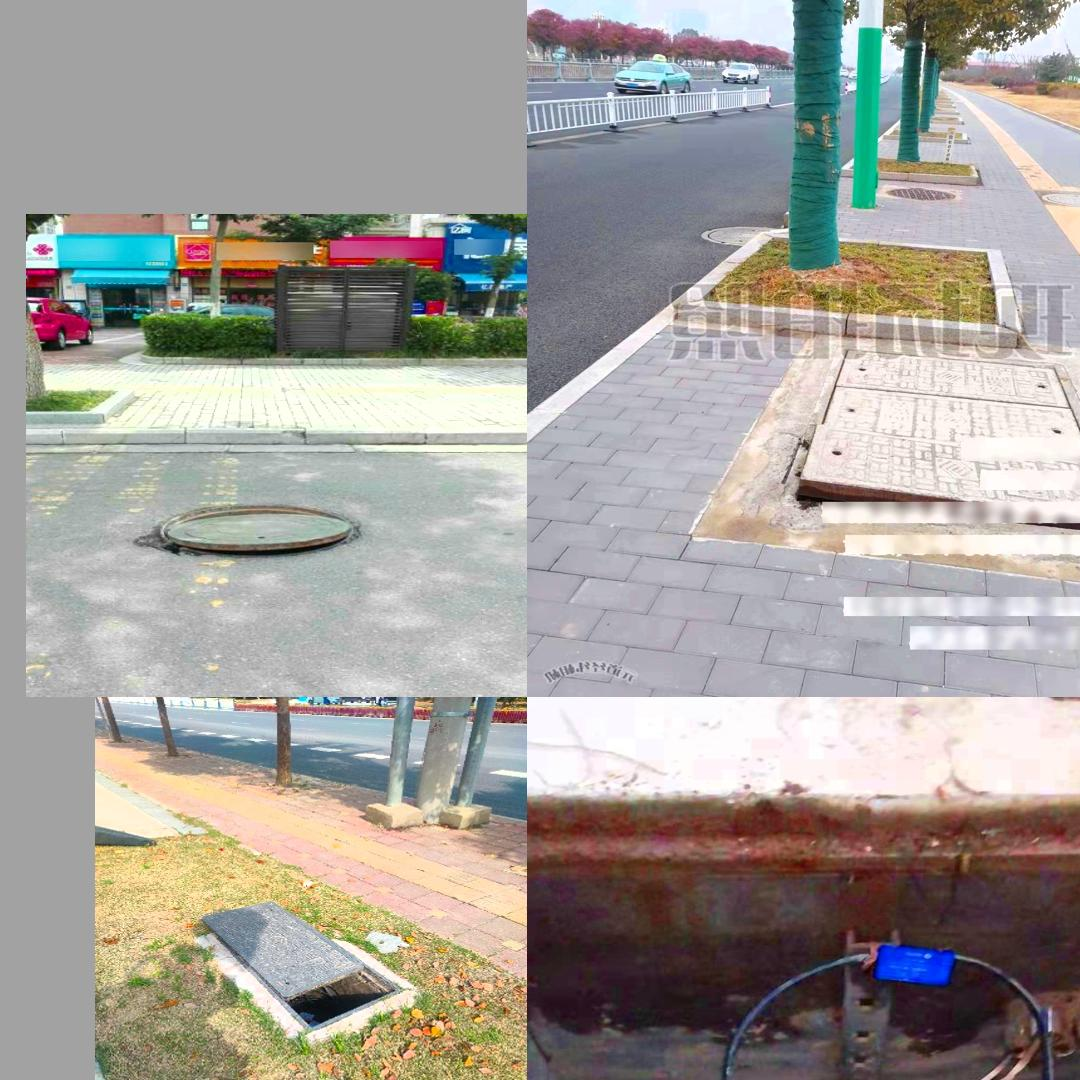good: (700, 223, 777, 245), (885, 186, 958, 201), (1040, 192, 1080, 207)
uncovered: (527, 704, 1080, 1080), (776, 347, 1080, 542), (194, 902, 413, 1038), (142, 487, 367, 553)
